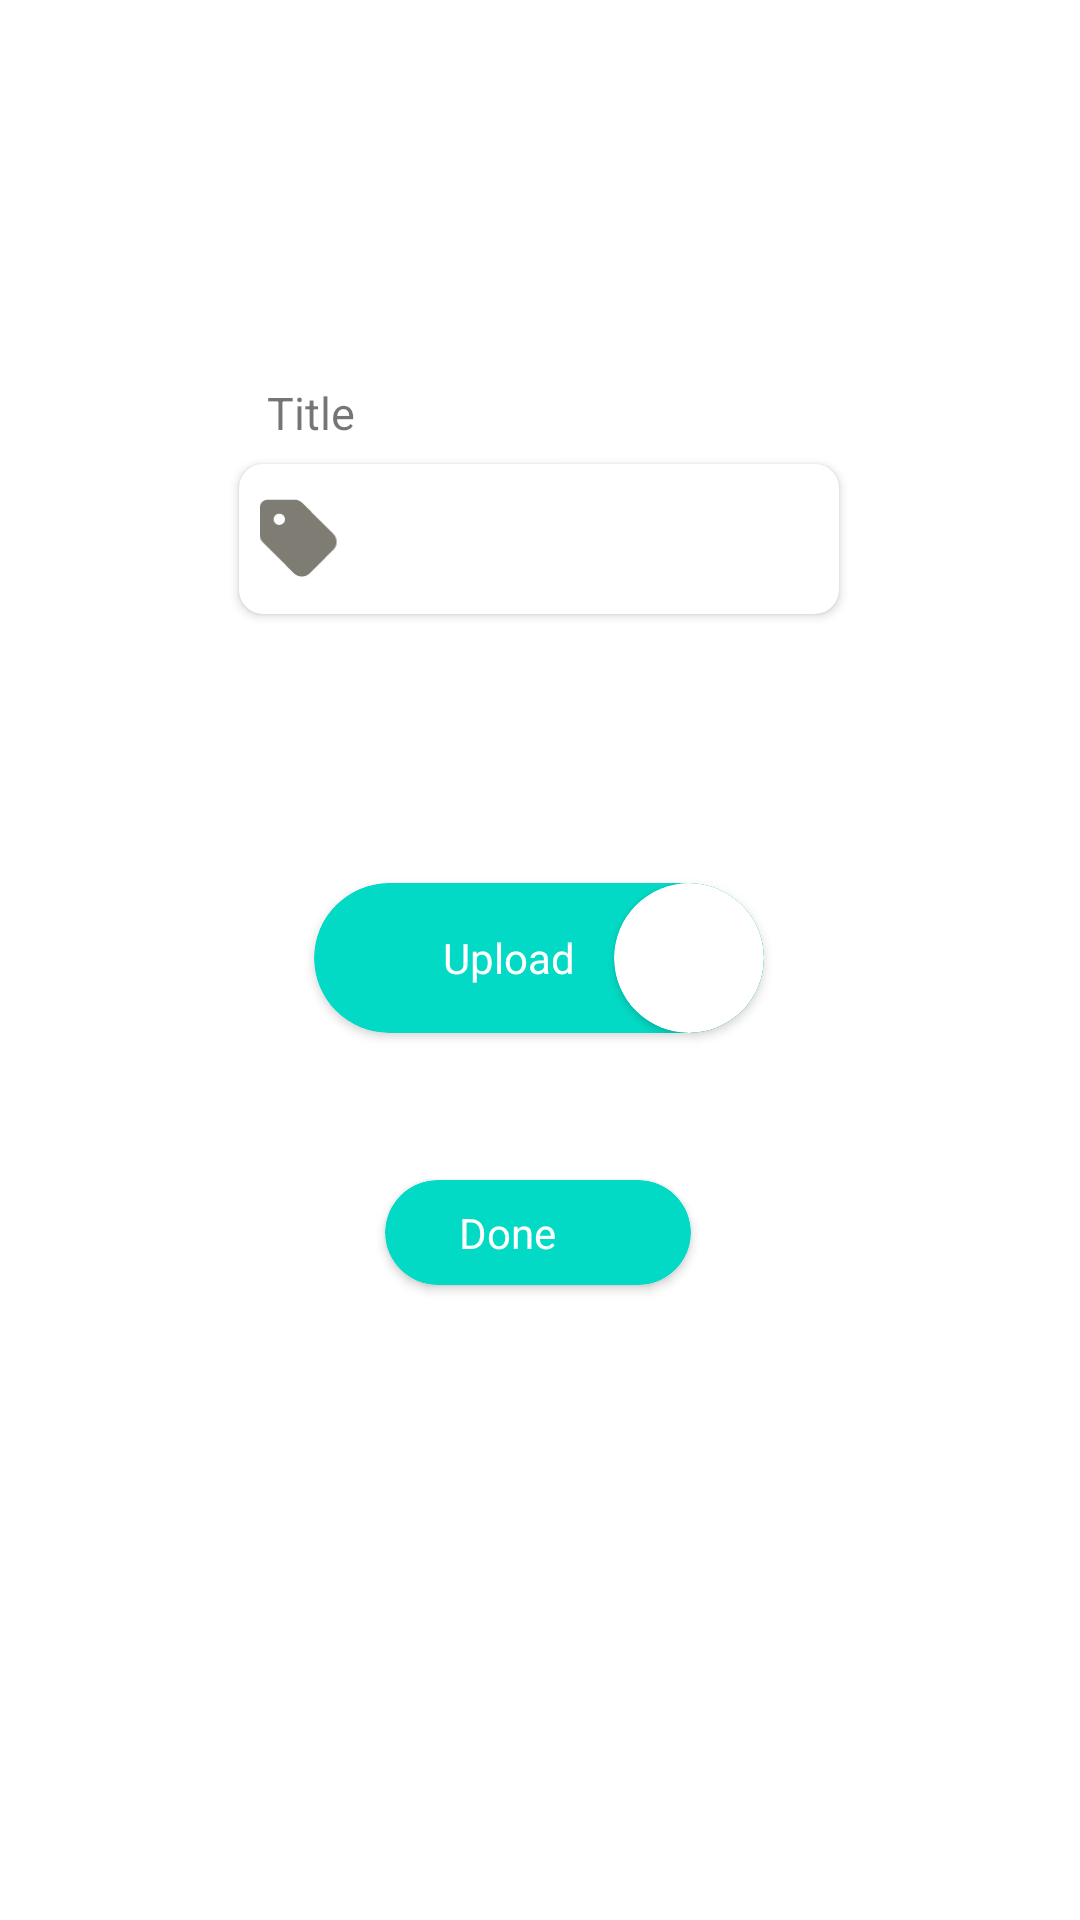

Where to tap for icons on this 1080*1920 app screen, as point (x, y):
tag: point (298, 538)
